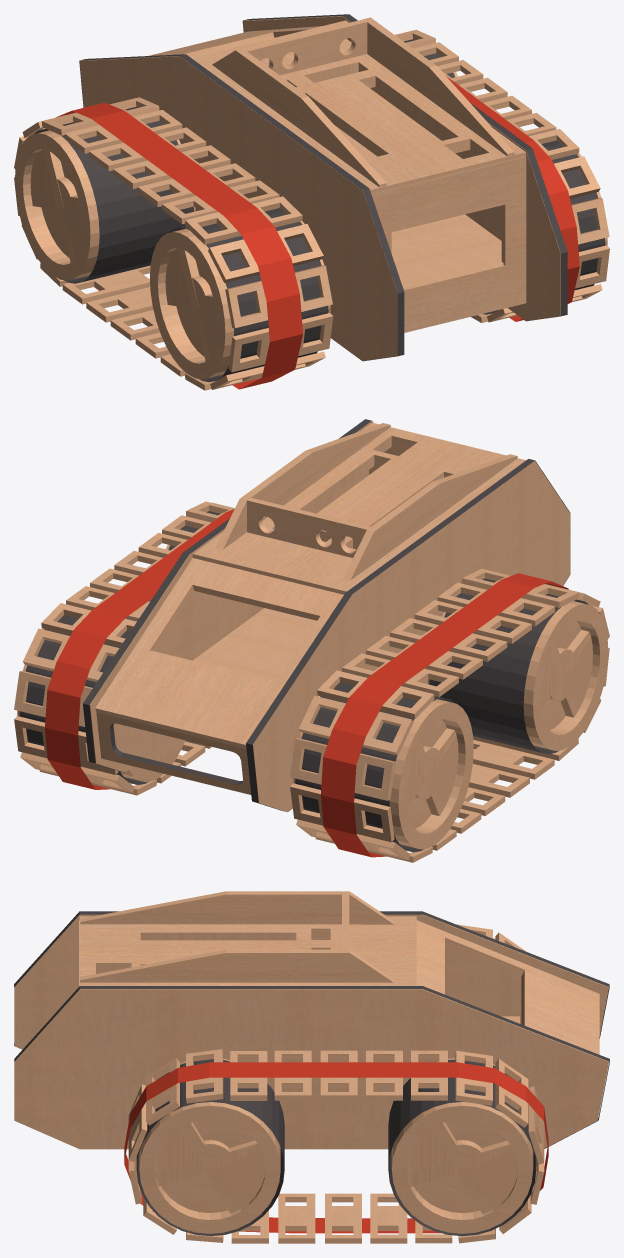
The model's file is Tracked chassis.glb.
The picture shows the model from 3 angles, top to bottom: view 1: azimuth 30°, elevation 25°; view 2: azimuth 150°, elevation 25°; view 3: azimuth 270°, elevation 25°; orthographic projection. The views are drawn at different scales.
Visible parts, largest first — view 1: Cube.027, Куб.007, Куб, Плоскость, Cylinder.014, Cube.029, Cylinder.020, Cylinder.024, Cube.028, Куб.004, Куб.005, Cylinder.018 (+33 smaller); view 2: Cube.027, Куб.002, Куб.007, Плоскость, Плоскость.001, Cube.029, Cylinder.018, Cylinder.024, Cylinder.020, Куб.004, Cube.028, Куб.005 (+35 smaller); view 3: Cube.029, Куб.007, Cube.027, Cylinder.026, Cylinder.016, Куб.005, Плоскость.001, Куб.002, Куб.004, Cylinder.031, Cylinder.030, Cylinder.029 (+19 smaller).
Part boxes in pixels (x1,y1,x2,y2): Cube.027: (79,56,397,360); Куб.007: (191,20,525,193); Куб: (371,156,526,332); Плоскость: (56,102,302,389); Cylinder.014: (33,107,193,283); Cube.029: (243,16,560,321); Cylinder.020: (15,130,195,280); Cylinder.024: (150,221,330,379); Cube.028: (334,125,503,287); Куб.004: (212,48,386,187); Куб.005: (347,17,514,156); Cylinder.018: (168,208,328,382); Cube.027: (253,461,569,811); Куб.002: (95,558,343,748); Куб.007: (192,422,525,594); Плоскость: (321,573,568,857); Плоскость.001: (45,509,234,789); Cube.029: (89,421,372,771); Cylinder.018: (429,578,588,754); Cylinder.024: (428,601,608,750); Cylinder.020: (293,695,473,849); Куб.004: (343,454,517,580); Cube.028: (193,608,316,681); Куб.005: (216,423,390,549); Cube.029: (14,989,608,1149); Куб.007: (79,916,416,985); Cube.027: (14,914,608,1049); Cylinder.026: (139,1058,280,1233); Cylinder.016: (391,1058,533,1233); Куб.005: (80,949,393,982); Плоскость.001: (124,1062,548,1233); Куб.002: (416,920,599,1054); Куб.004: (80,891,393,924); Cylinder.031: (407,1122,517,1213); Cylinder.030: (154,1122,265,1213); Cylinder.029: (136,1059,284,1236).
Size of the model in its own units: 4.68 by 3 by 6.76.
11 materials, 6 textured.
